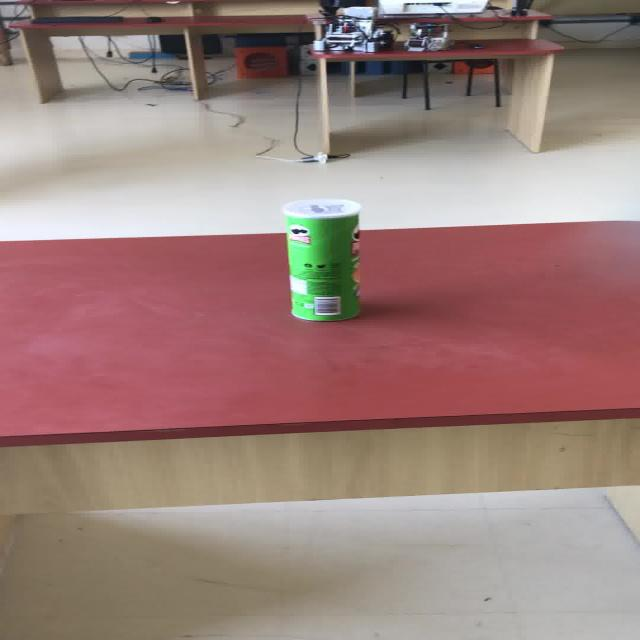pringles: (280, 198, 362, 321)
